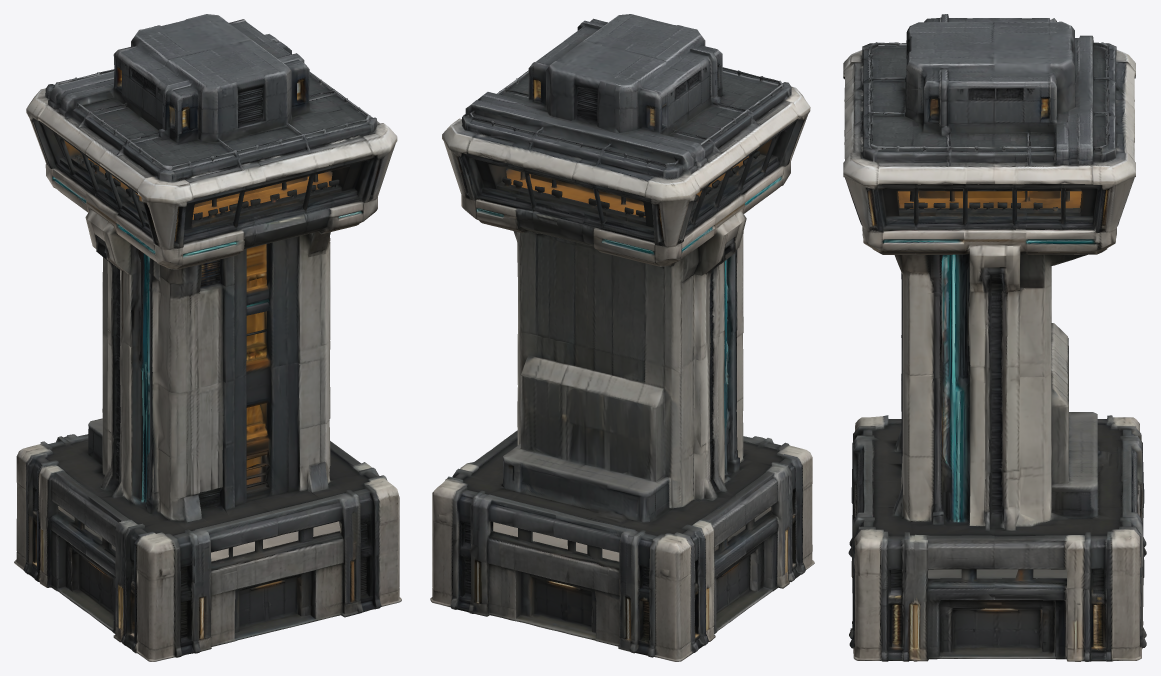
Rendered from kairox-transit-tower.glb.
3 views of the same model, side by side, from view 1: azimuth 30°, elevation 25°; view 2: azimuth 150°, elevation 25°; view 3: azimuth 270°, elevation 25° (orthographic). The views are drawn at different scales.
Parts seen in each view (by area): view 1: kairox-transit-tower; view 2: kairox-transit-tower; view 3: kairox-transit-tower.
Part boxes in pixels (x1,y1,x2,y2): kairox-transit-tower: (14, 14, 401, 661); kairox-transit-tower: (430, 14, 814, 661); kairox-transit-tower: (843, 14, 1146, 661).
Bounding box in the file's own units: 16.28 × 32 × 15.88.
1 material, 1 textured.
